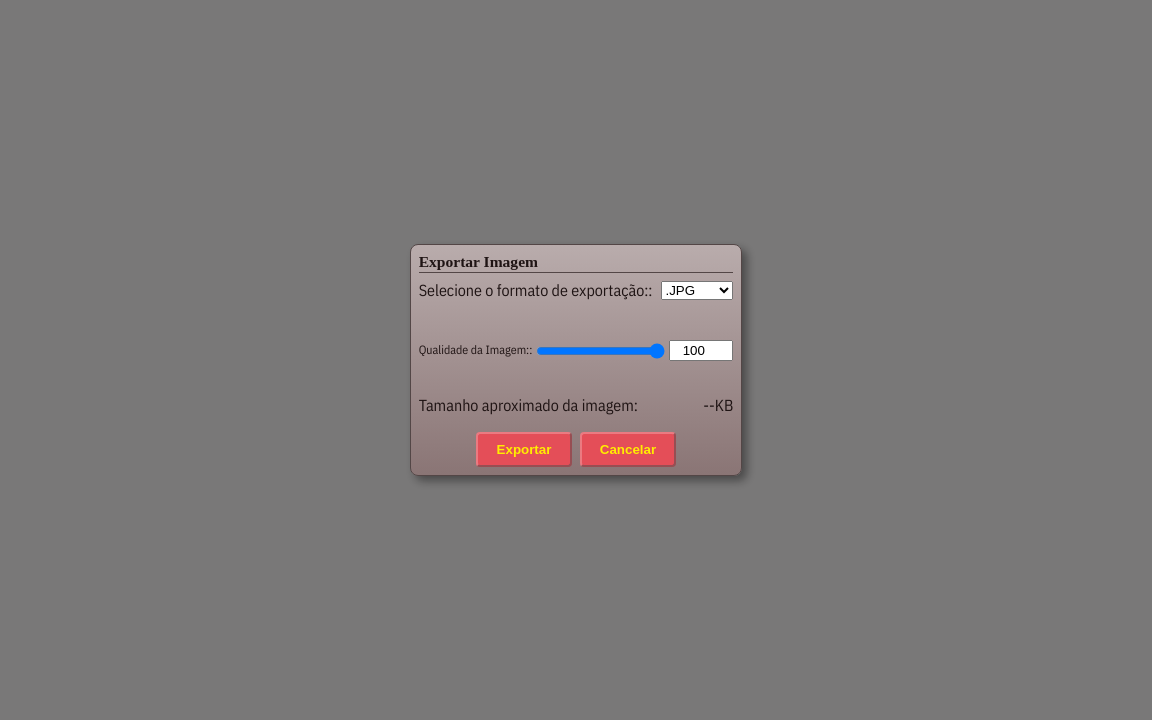
Test case: ExportImageDialog › shows transparency checkbox when PNG is selected
Select ".PNG" in the dropdown with id "slc_export-format-select-input" at (697, 290), box [660,281,733,300]
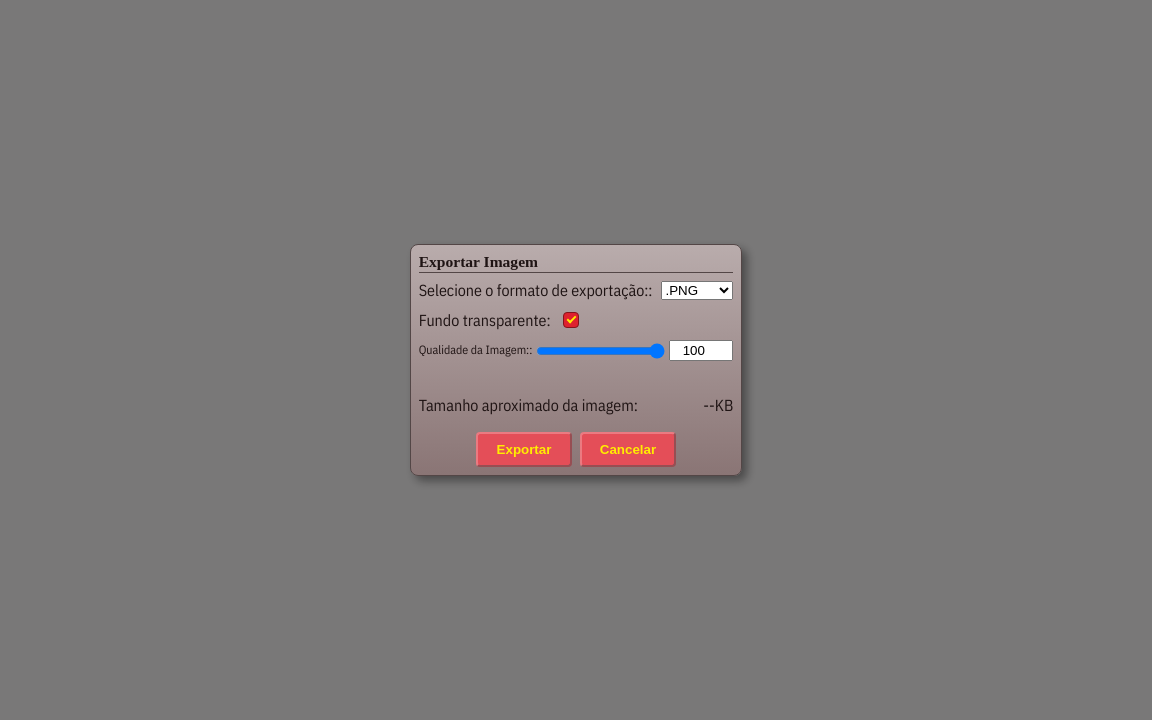
Now the checkbox "Fundo transparente:" is shown, box [419,310,550,330]
